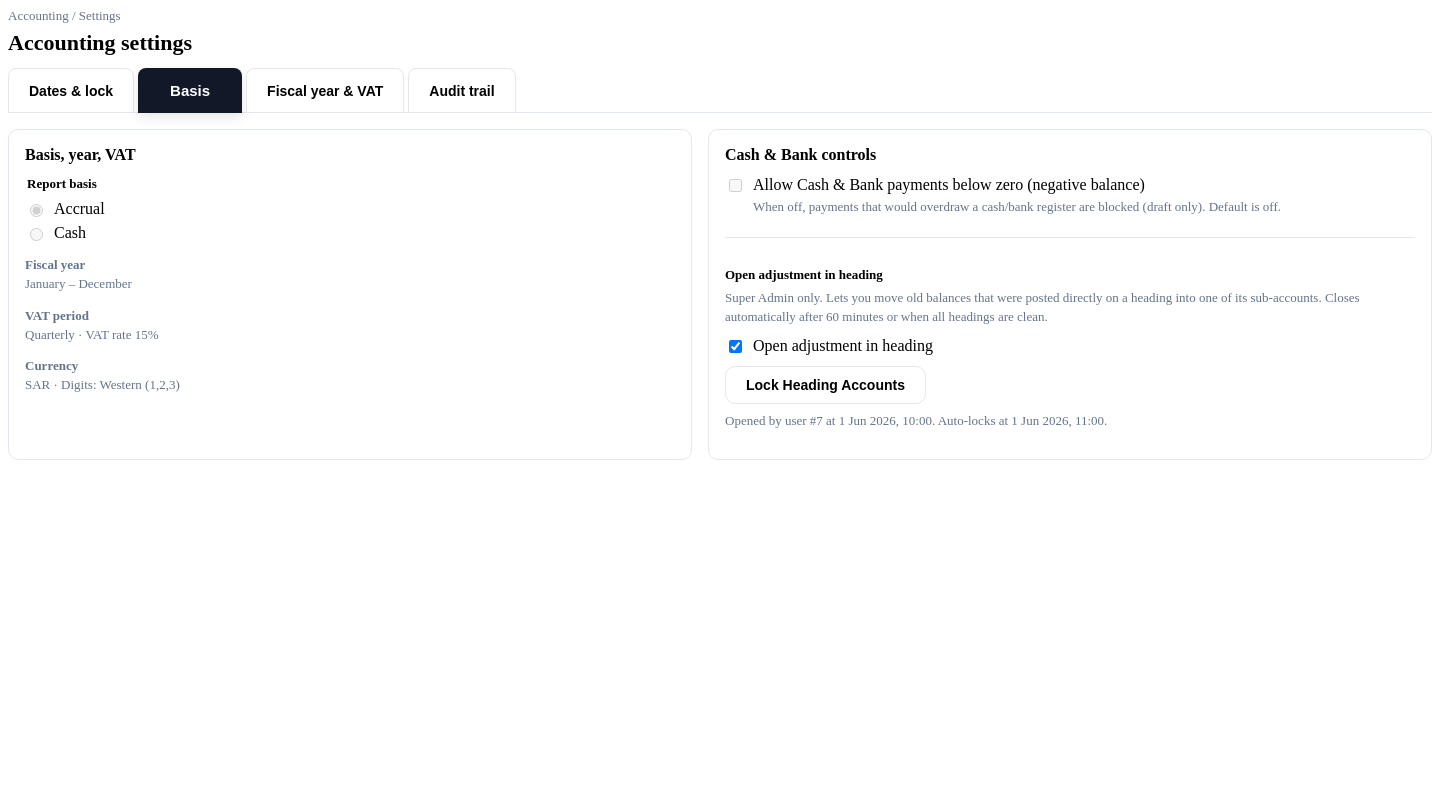
WorkshopAccountingSettings heading toggle dialog › lock button uses dialog and maps SUPER_ADMIN_ONLY
Click the button with test id "heading-reclass-lock-btn" at (826, 384), box [725,366,926,404]
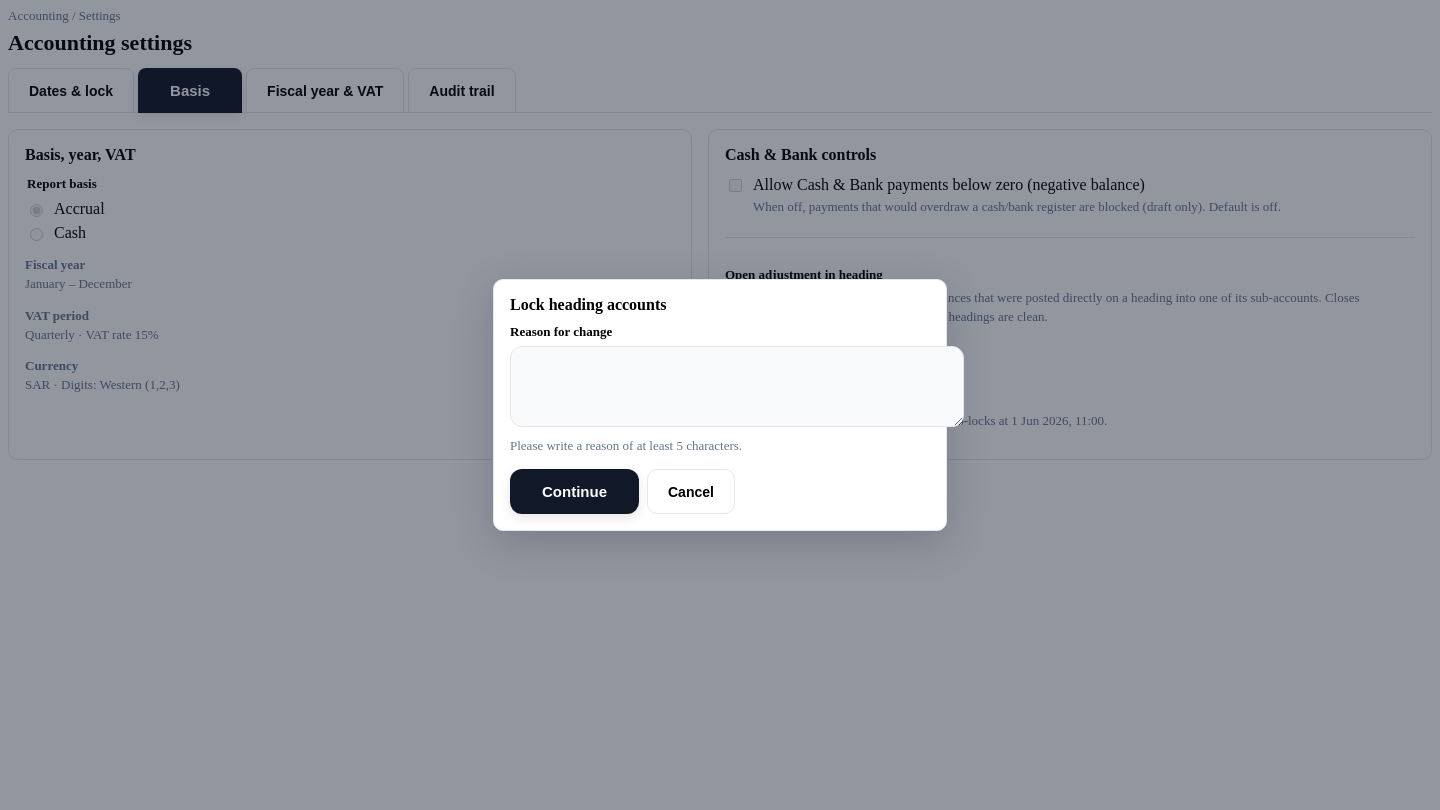
Type "lock after review" into the text box with test id "heading-reclass-reason" at (737, 386), box [510,346,964,427]
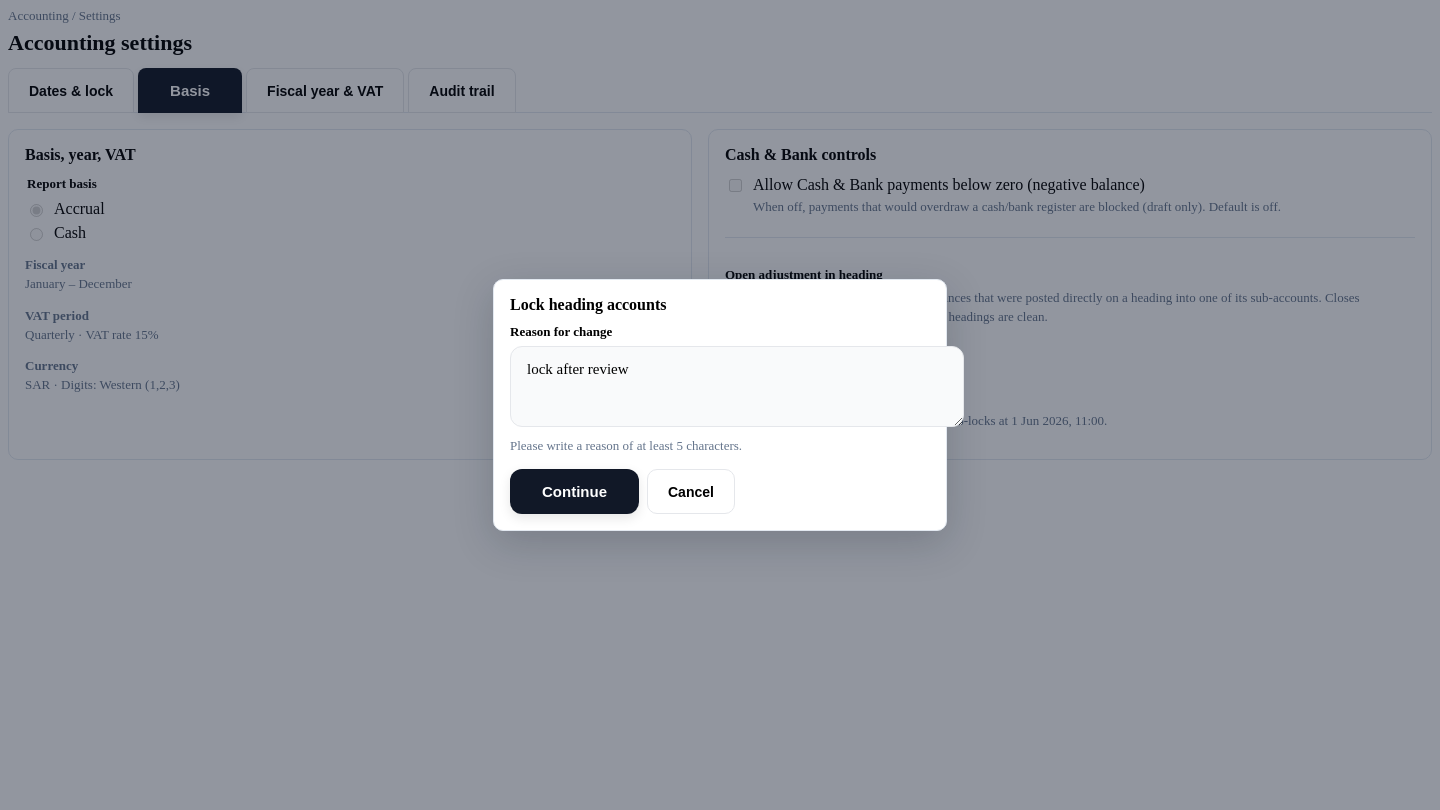
Click the button with test id "heading-reclass-confirm" at (574, 492), box [510,469,639,514]
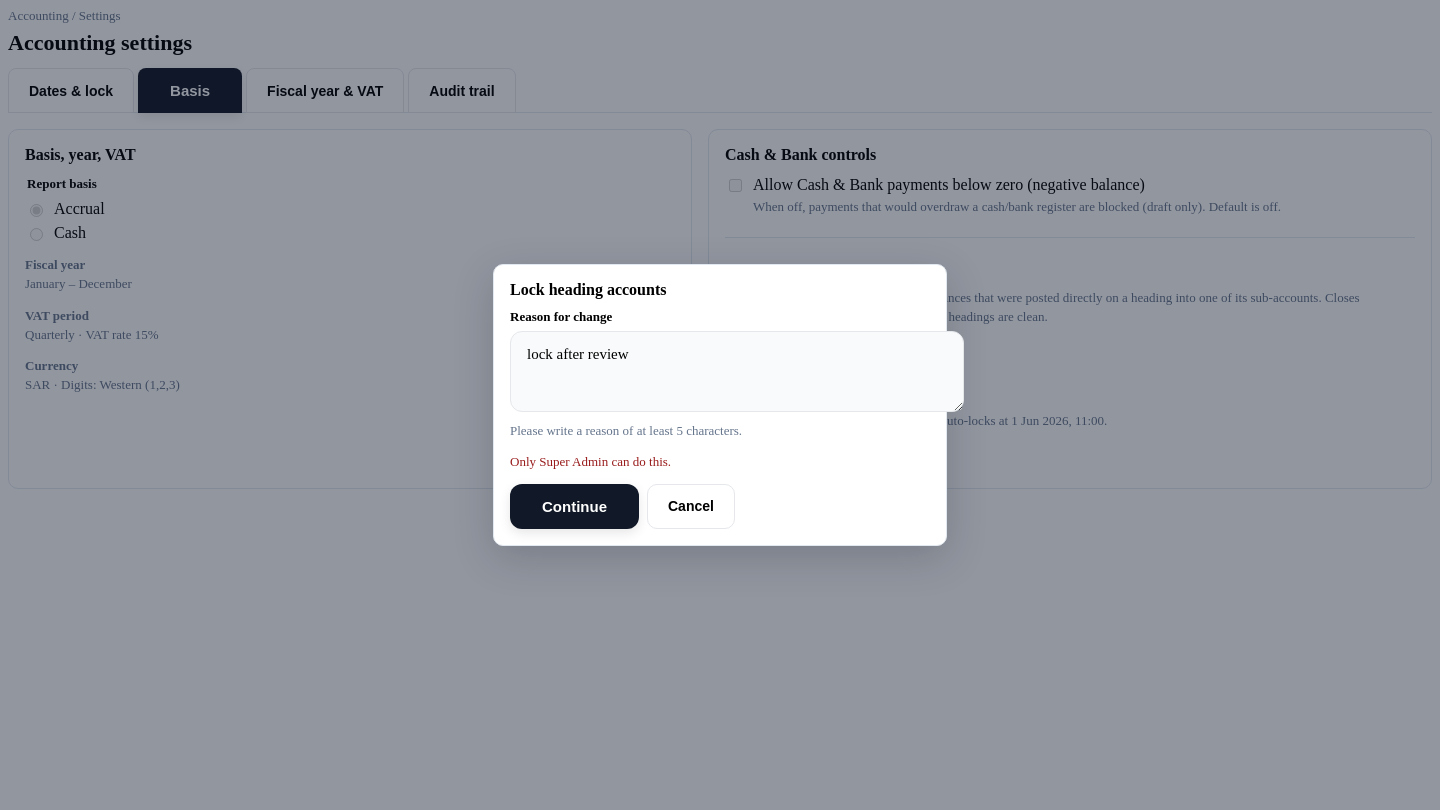
Now the message with test id "heading-reclass-dialog-error" reads "Only Super Admin can do this.", box [510,454,671,469]
